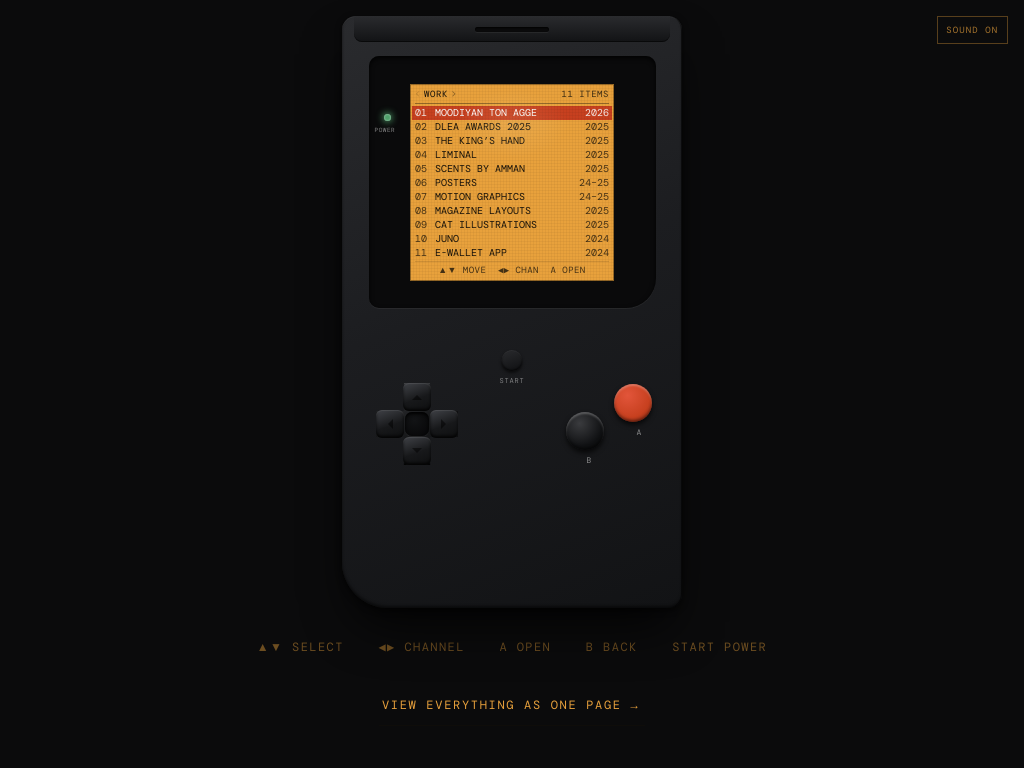
Test: clicking a row › opens a project without touching the D-pad
This screenshot has width=1024, height=768.
Expected: the list is shown, x1=415 y1=104 x2=609 y2=260
Step 1. Click the option "05 SCENTS BY AMMAN 2025" → click(512, 168), box x1=412 y1=162 x2=612 y2=176
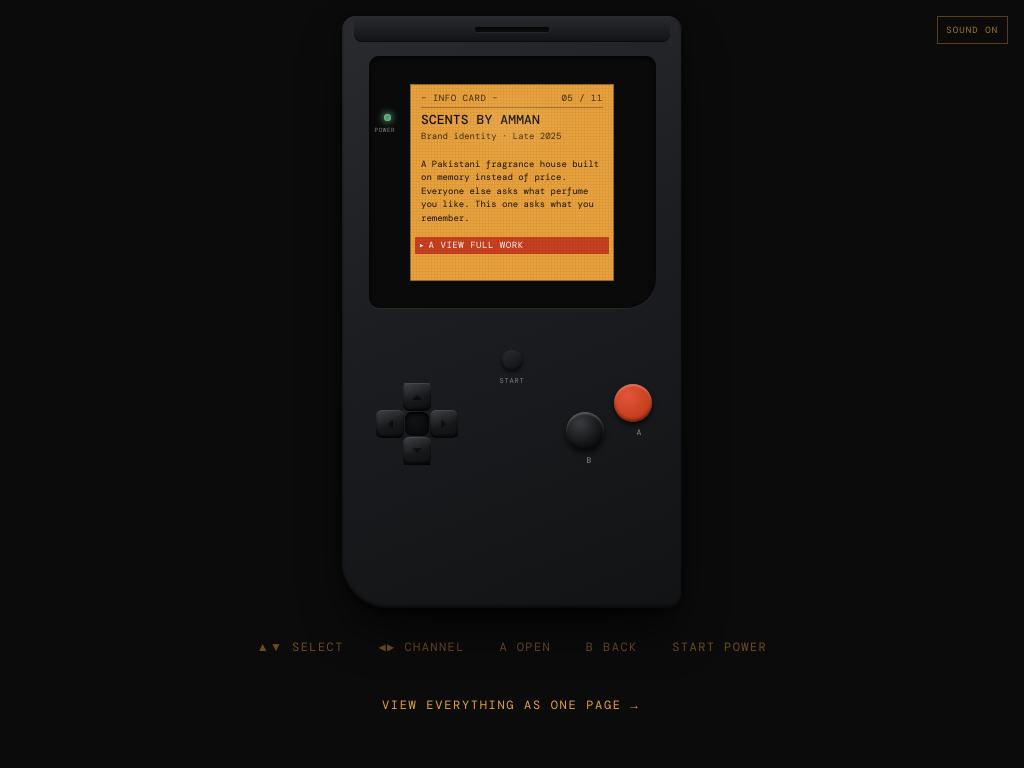
Expected: the heading "SCENTS BY AMMAN" is shown, x1=421 y1=110 x2=540 y2=128
Result: the text "– INFO CARD –" is shown at x1=421 y1=92 x2=498 y2=104
Result: the text "05 / 11" is shown at x1=561 y1=92 x2=603 y2=104
